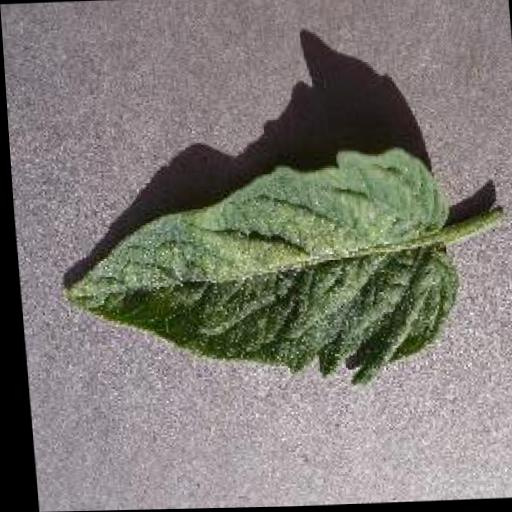Spider Mites: (52, 144, 463, 396)
